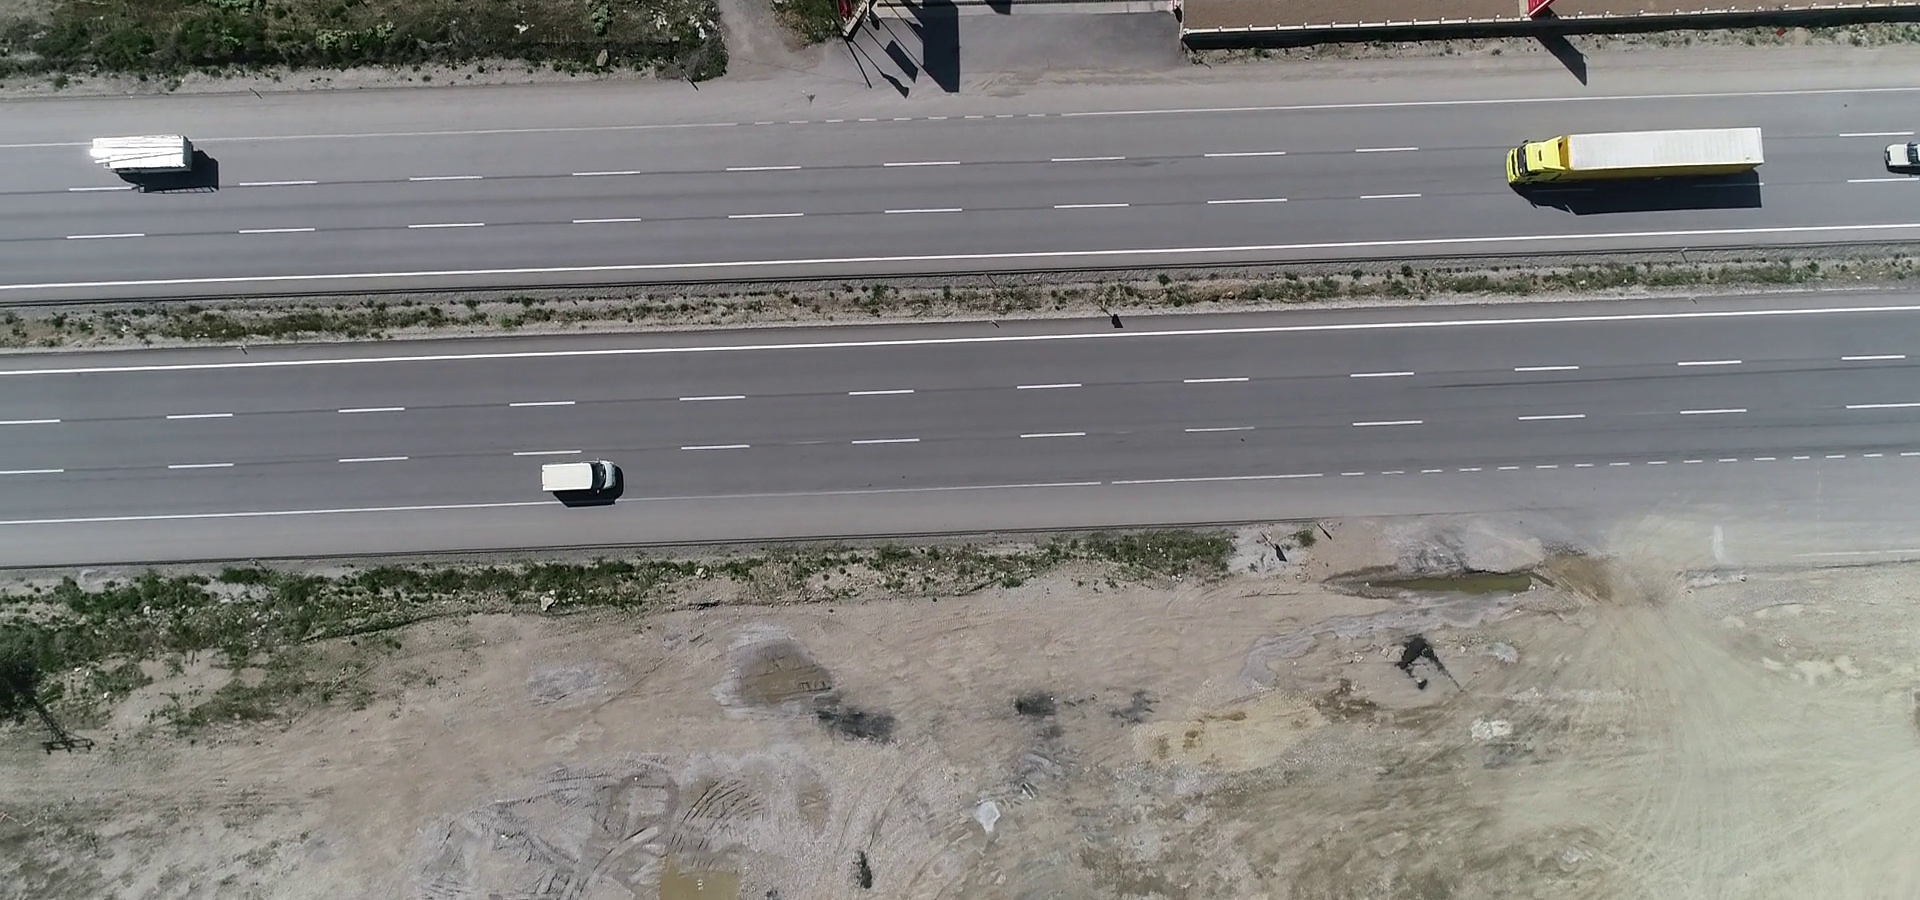araba: (534, 456, 628, 497), (1878, 133, 1920, 169)
kamyon: (1500, 122, 1771, 204)
